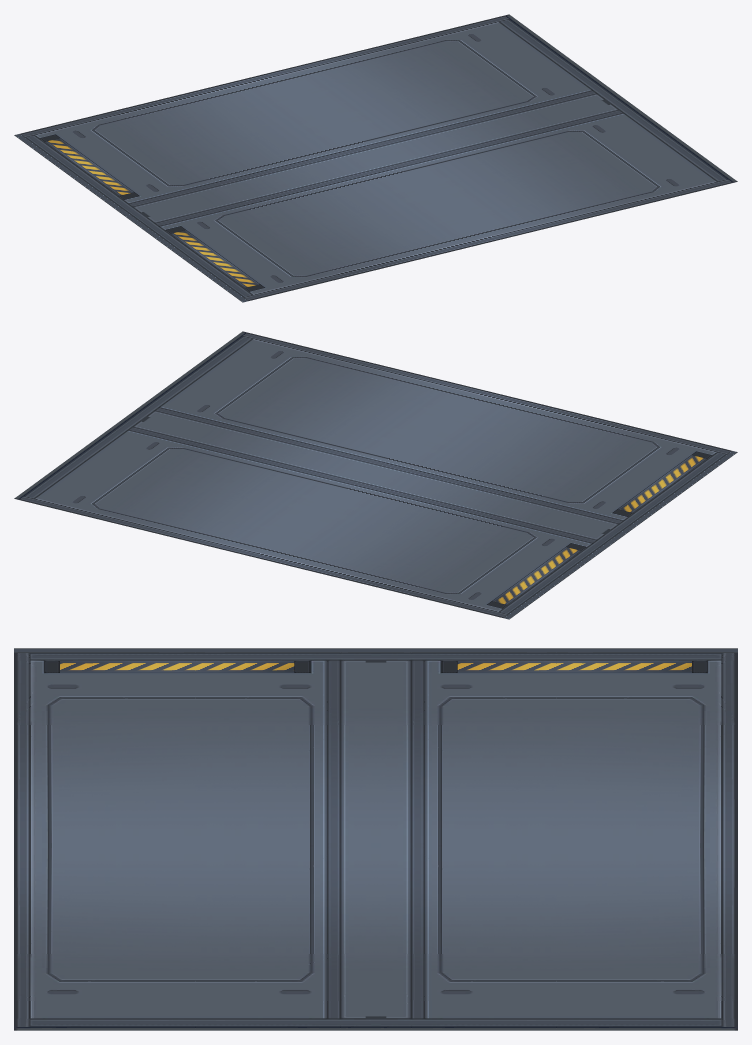
File: my_carrier_01_carpet_08.glb
The picture shows the model from 3 angles, top to bottom: view 1: azimuth 30°, elevation 25°; view 2: azimuth 150°, elevation 25°; view 3: azimuth 270°, elevation 25°; orthographic projection. The views are drawn at different scales.
Visible parts, largest first — view 1: my_carrier_01_carpet_08; view 2: my_carrier_01_carpet_08; view 3: my_carrier_01_carpet_08.
Part boxes in pixels (x1,y1,x2,y2): my_carrier_01_carpet_08: (14,14,737,302); my_carrier_01_carpet_08: (14,331,737,619); my_carrier_01_carpet_08: (14,648,737,1030).
Size of the model in its own units: 0.03 by 0 by 0.024.
Materials: 1 (1 with a texture image).
